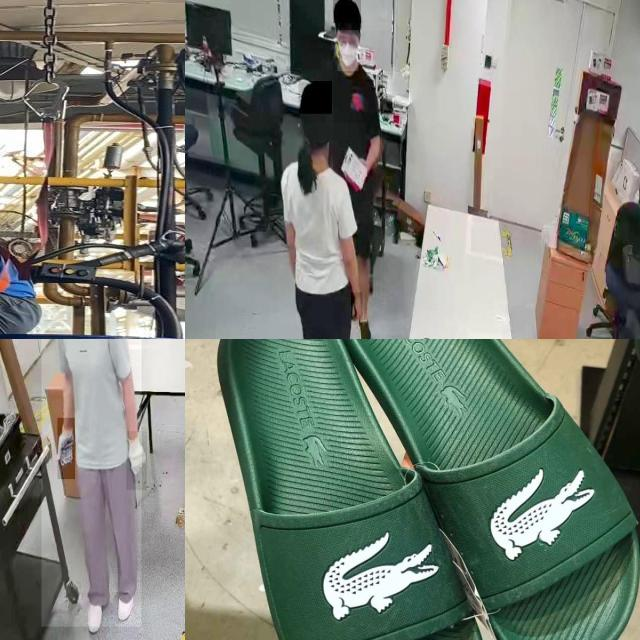Sandals: (185, 339, 640, 640)
face_mask: (337, 30, 359, 72)
hand_glove: (126, 431, 148, 491), (58, 418, 76, 480)
hand_noglove: (351, 292, 363, 326), (357, 154, 369, 178)
head_nohelmet: (298, 81, 332, 115), (332, 0, 361, 24)
person: (41, 339, 142, 627), (278, 122, 367, 339), (333, 0, 385, 201)
shoes: (114, 583, 140, 626), (85, 584, 104, 636), (354, 303, 375, 339)
